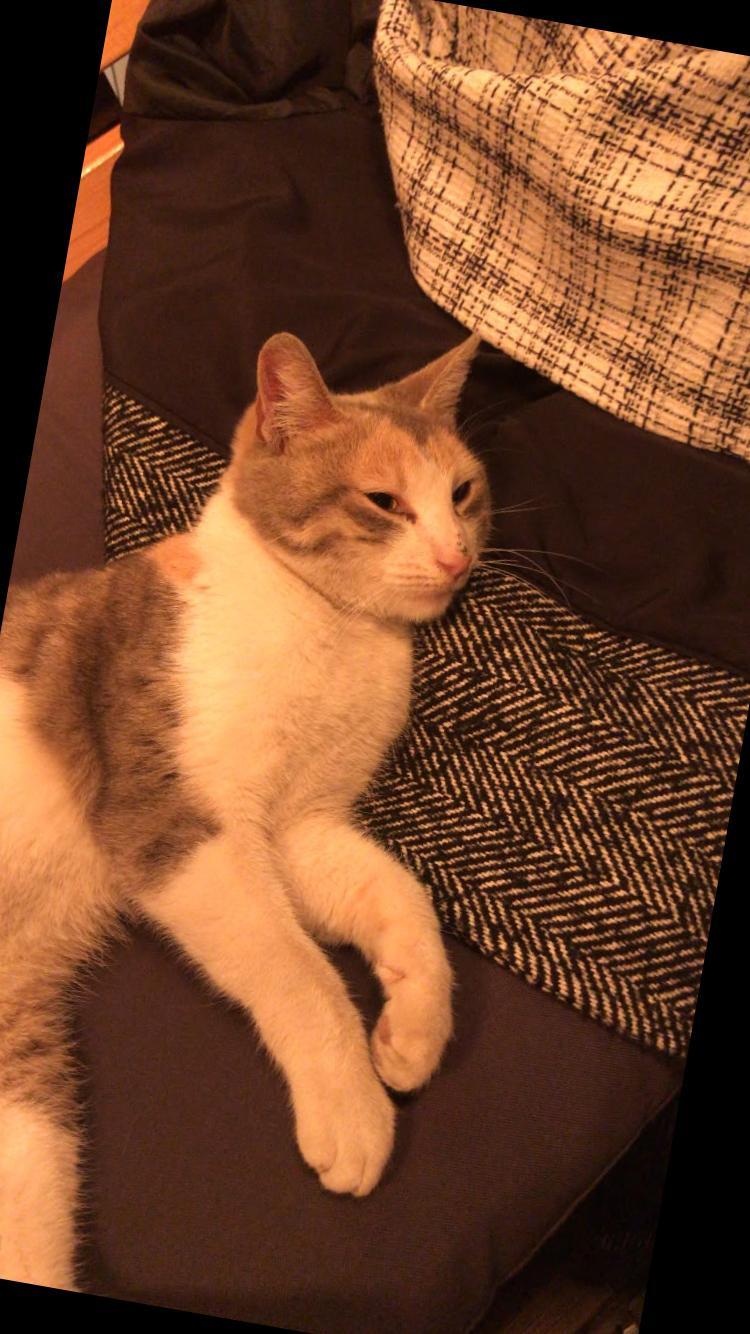macka: (0, 254, 572, 1334)
